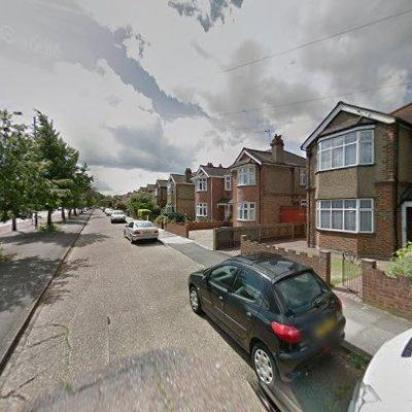stationary-car-offstreet: (160, 212, 190, 230)
stationary-car-onstreet: (188, 248, 344, 392), (124, 219, 158, 242), (110, 211, 127, 223), (106, 208, 114, 216)
stationary-light-truck-onstreet: (344, 302, 412, 412)
